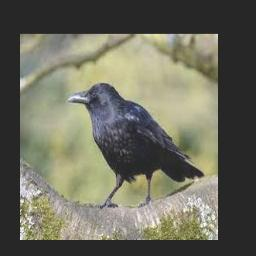Crow: (67, 83, 204, 209)
